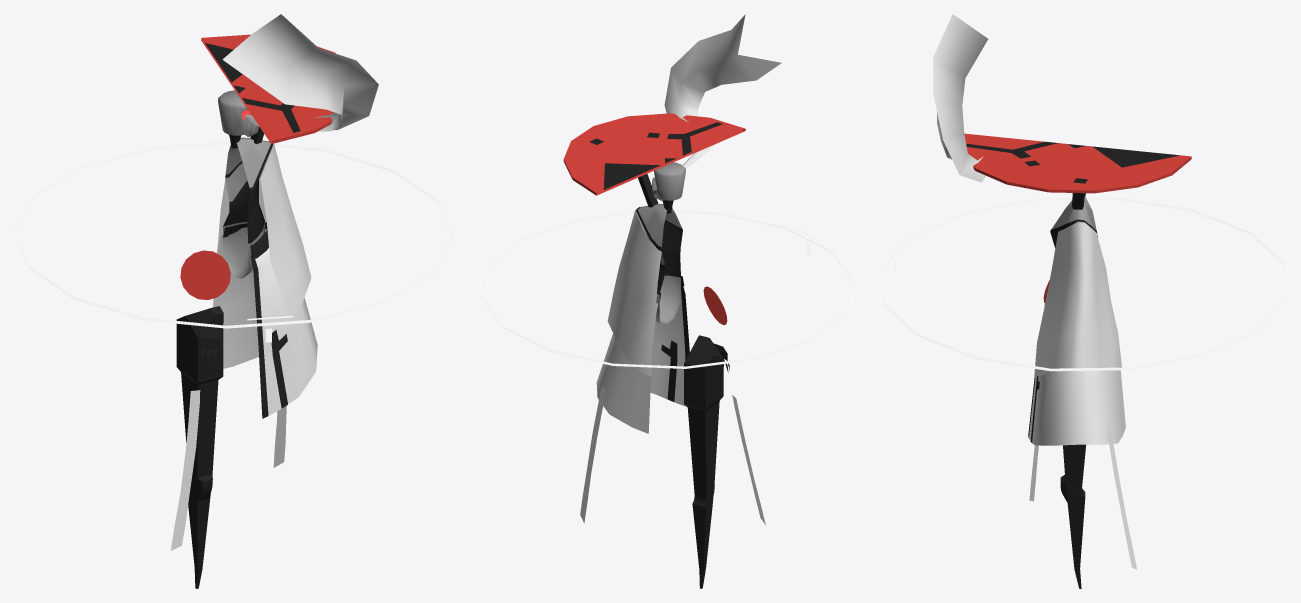
The model's file is KURENAI_lowpoly.glb.
3 renders of one model, left to right at view 1: azimuth 30°, elevation 25°; view 2: azimuth 150°, elevation 25°; view 3: azimuth 270°, elevation 25°, orthographic. The views are drawn at different scales.
Visible parts, largest first — view 1: cloth_bottom, fake_smoke, legs, cloth_top, torso, Circle.001, Info_circle, accent_circle, flappy_front, head, flappy_back, hands; view 2: Circle.001, cloth_bottom, legs, cloth_top, fake_smoke, torso, Info_circle, head, flappy_back, flappy_front, accent_circle; view 3: cloth_top, Circle.001, cloth_bottom, fake_smoke, Info_circle, legs, torso, flappy_back.
Boxes of the visible parts, x1,y1,x2,y2 form: cloth_bottom: (213, 229, 317, 418); fake_smoke: (222, 14, 378, 131); legs: (176, 306, 223, 588); cloth_top: (213, 143, 311, 327); torso: (223, 137, 272, 278); Circle.001: (201, 34, 335, 143); Info_circle: (14, 141, 452, 342); accent_circle: (180, 250, 230, 299); flappy_front: (170, 390, 200, 550); head: (218, 90, 251, 135); flappy_back: (273, 406, 286, 467); hands: (199, 327, 222, 366); Circle.001: (563, 113, 745, 195); cloth_bottom: (596, 284, 689, 433); legs: (684, 335, 723, 588); cloth_top: (607, 207, 661, 375); fake_smoke: (664, 14, 781, 168); torso: (636, 204, 682, 323); Info_circle: (481, 210, 852, 368); head: (654, 162, 685, 200); flappy_back: (580, 386, 606, 522); flappy_front: (732, 395, 765, 524); accent_circle: (703, 286, 727, 324); cloth_top: (1034, 222, 1121, 376); Circle.001: (964, 133, 1191, 193); cloth_bottom: (1028, 303, 1125, 445); fake_smoke: (933, 14, 987, 182); Info_circle: (881, 197, 1286, 371); legs: (1060, 444, 1085, 588); torso: (1050, 196, 1097, 247); flappy_back: (1106, 425, 1136, 569).
Size of the model in its own units: 1.44 by 2.28 by 1.44.
